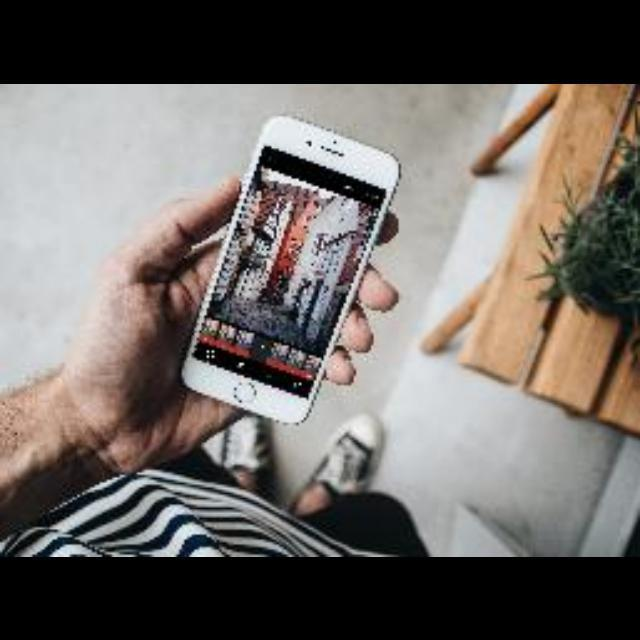PhoneUse: (183, 114, 399, 426)
